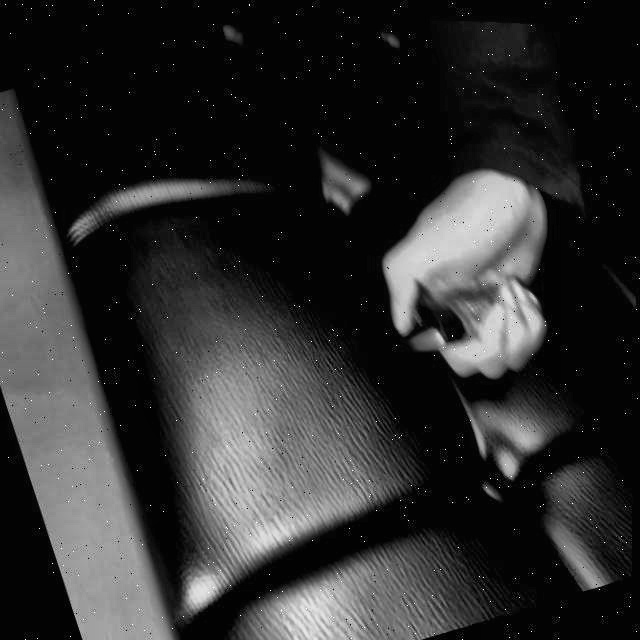Fire: (402, 317, 446, 356)
